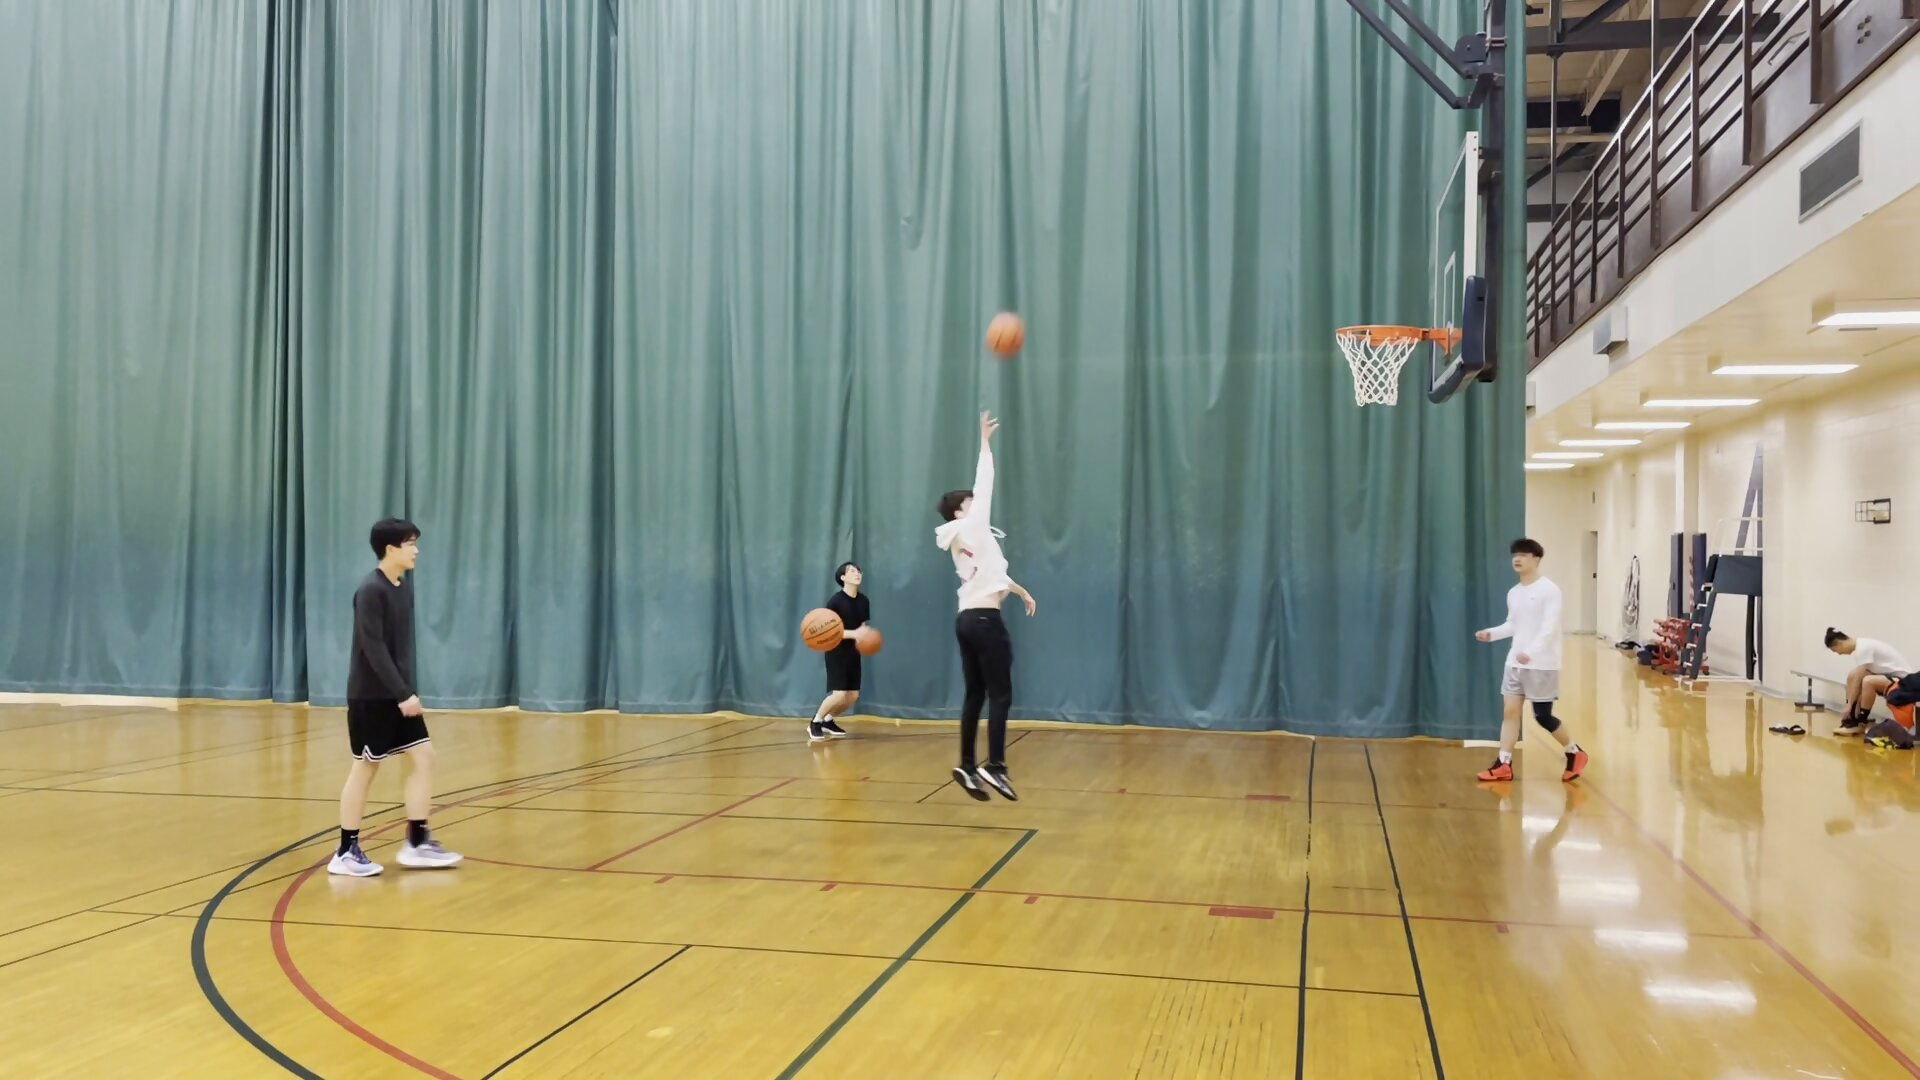ball: (983, 312, 1033, 359), (801, 607, 848, 653), (855, 626, 883, 660)
net: (1344, 378, 1410, 412)
player: (333, 515, 468, 878), (927, 414, 1038, 816), (1462, 539, 1588, 781), (807, 563, 878, 744), (1824, 625, 1920, 743)
rim: (1327, 321, 1431, 351)
